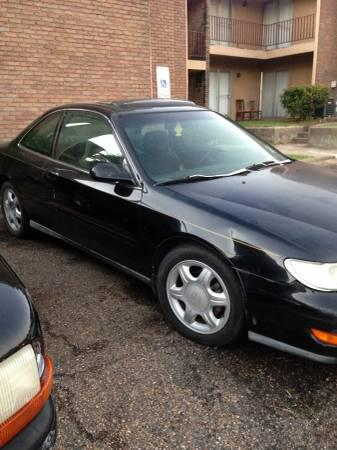acura: (1, 79, 337, 382)
